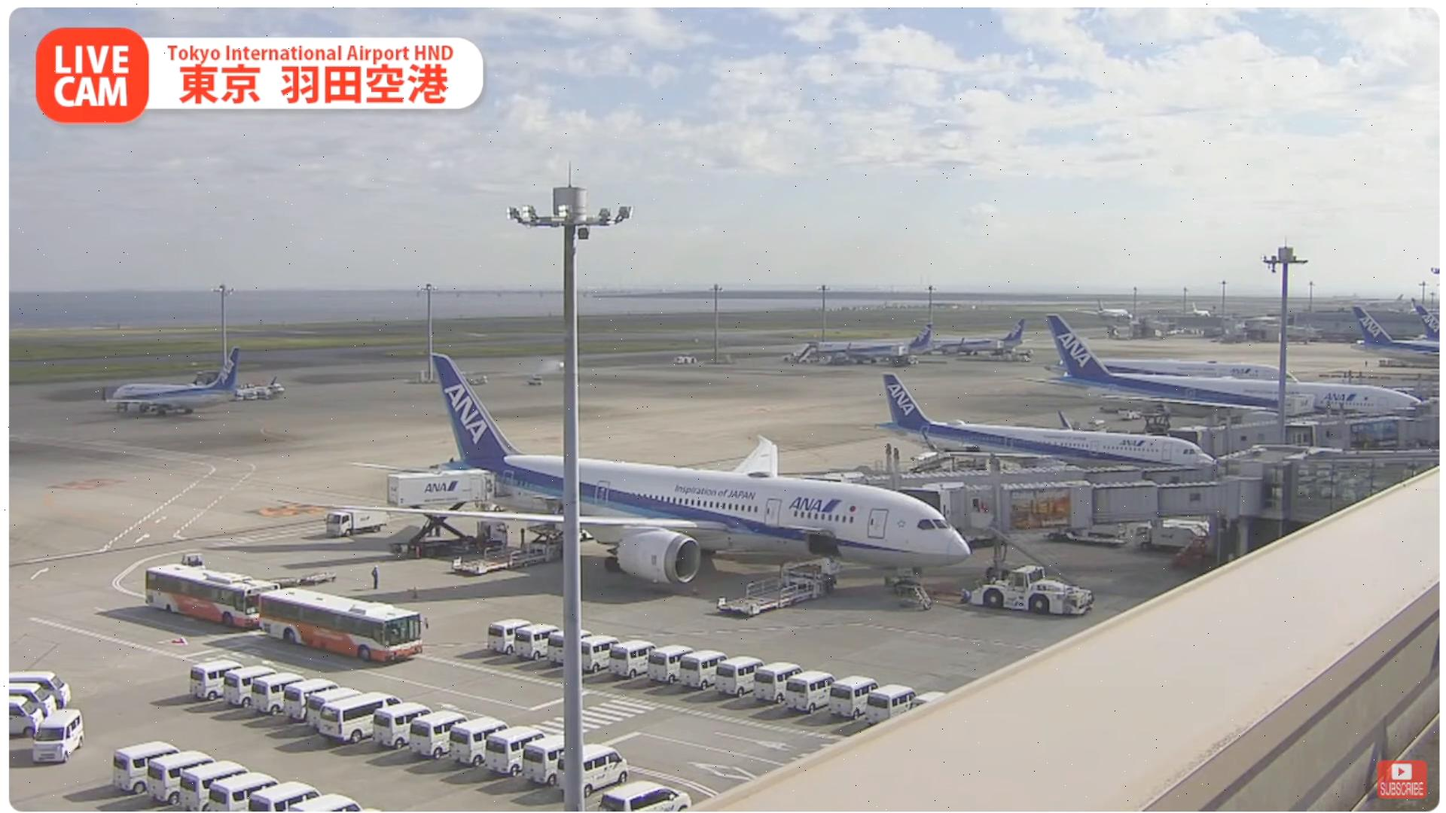APS: (969, 564, 1106, 619)
Aerobridge: (899, 476, 1264, 540), (843, 457, 1217, 496)
Airplane: (330, 354, 973, 599)
Baggage truck: (324, 495, 398, 541)
Catering: (383, 475, 497, 555)
Dolly: (262, 567, 340, 587)
JCPL: (699, 546, 848, 617), (449, 521, 563, 577)
Window: (1290, 456, 1440, 523)
